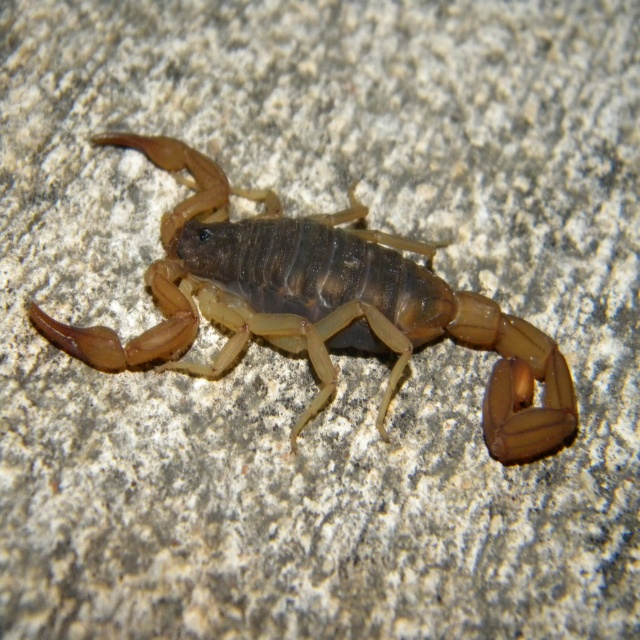Scorpion: (24, 133, 580, 465)
